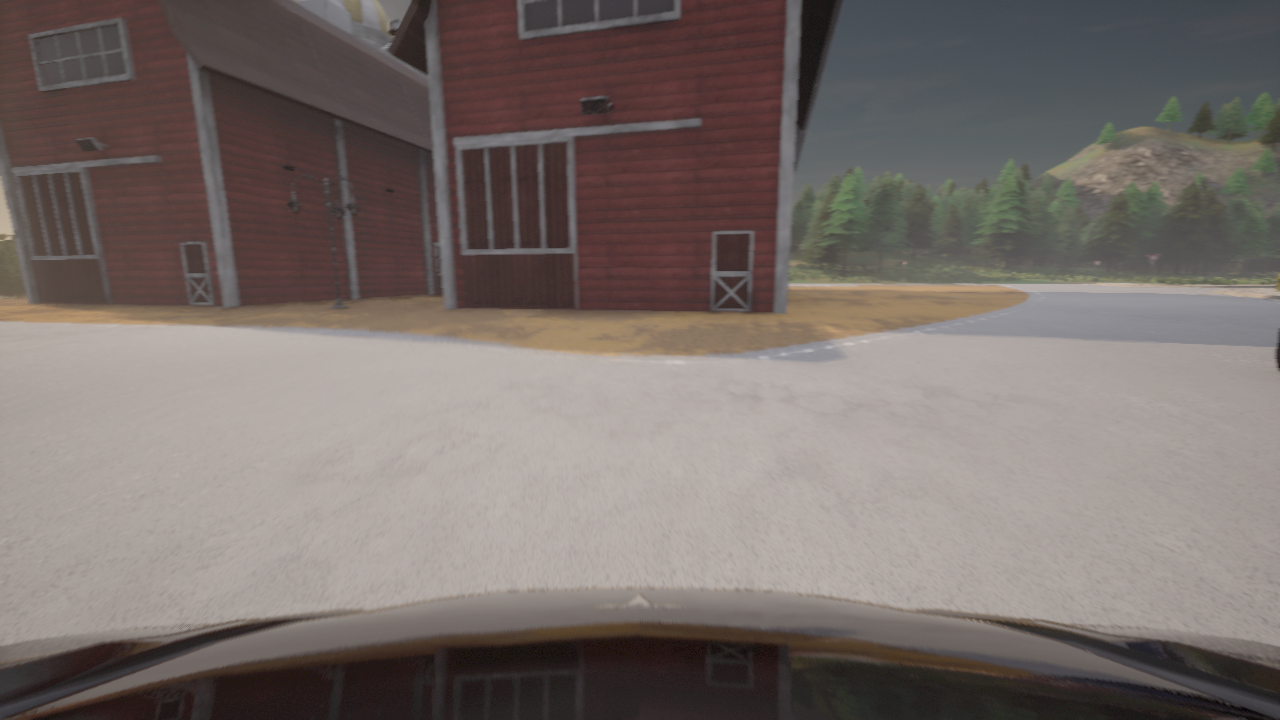cyclist: (0, 588, 1279, 719), (1274, 329, 1279, 371)
